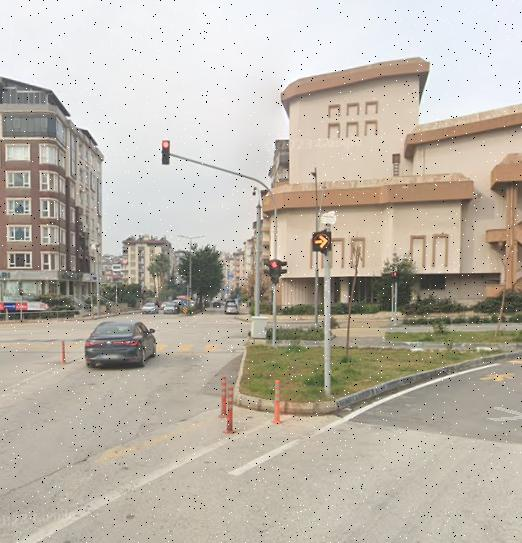redlight: (162, 140, 170, 164), (271, 260, 280, 281)
